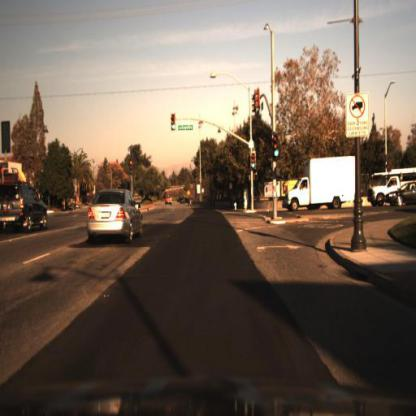car: (282, 154, 360, 213), (87, 187, 145, 249), (1, 180, 49, 233), (370, 167, 414, 209)
trafficLight-Green: (273, 132, 284, 164), (249, 151, 259, 174), (170, 112, 177, 134)
trafficLight-RedLeft: (128, 158, 136, 179)
